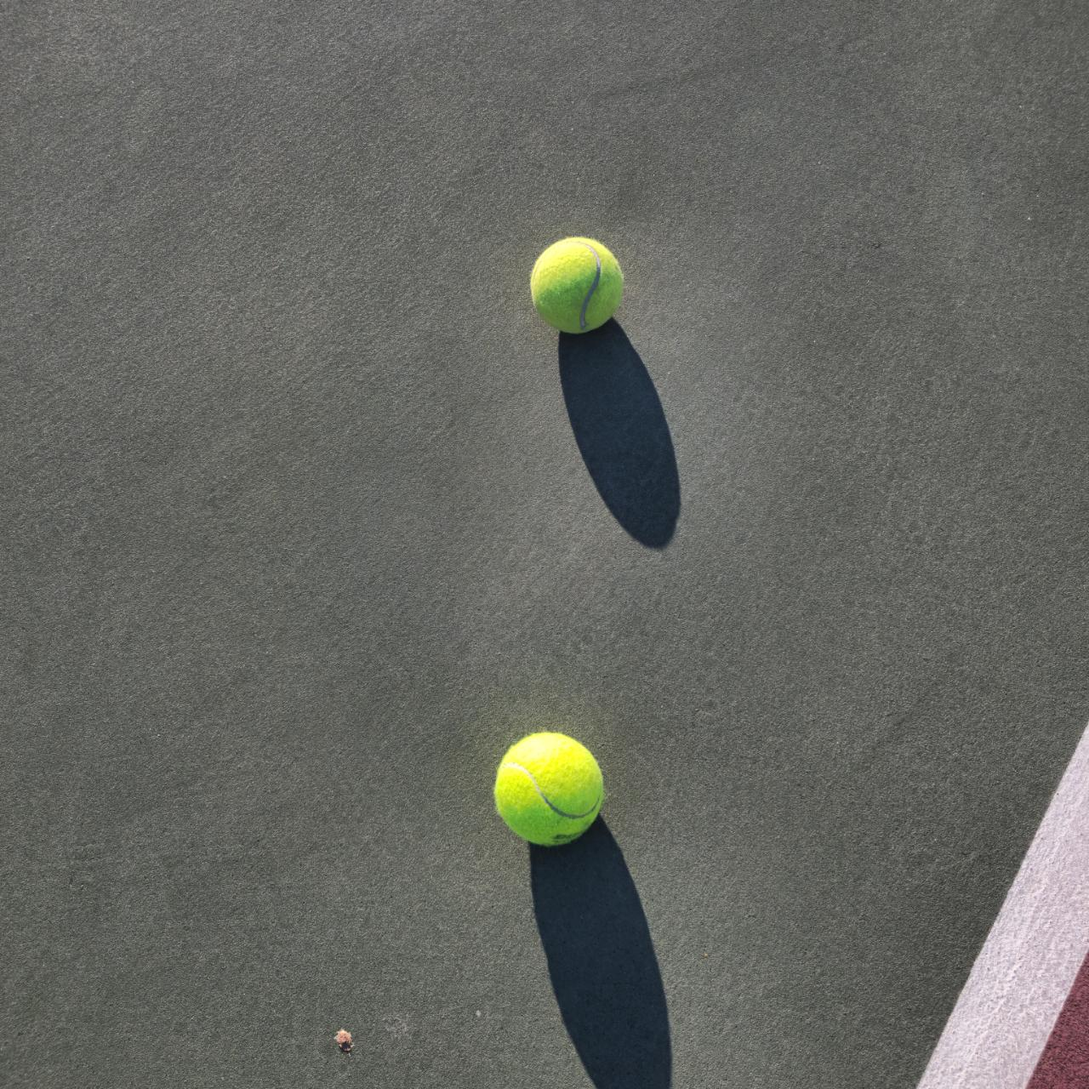tennis-ball: (492, 727, 605, 848), (527, 233, 624, 335)
